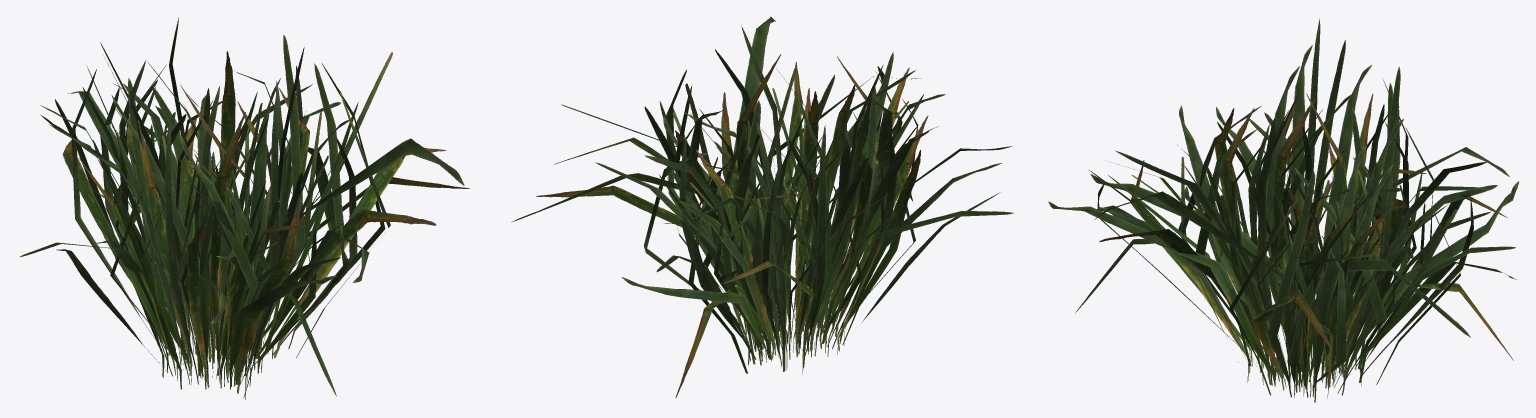
Rendered from high_grass.glb.
The picture shows the model from 3 angles, left to right: view 1: azimuth 30°, elevation 25°; view 2: azimuth 150°, elevation 25°; view 3: azimuth 270°, elevation 25°; orthographic projection. The views are drawn at different scales.
Visible parts, largest first — view 1: Woodland high_grass; view 2: Woodland high_grass; view 3: Woodland high_grass.
Boxes of the visible parts, <box> form: Woodland high_grass: <box>20,17,469,399</box>; Woodland high_grass: <box>511,16,1013,397</box>; Woodland high_grass: <box>1048,18,1519,402</box>.
Bounding box in the file's own units: 0.4877 × 0.3347 × 0.4433.
1 material, 1 textured.
